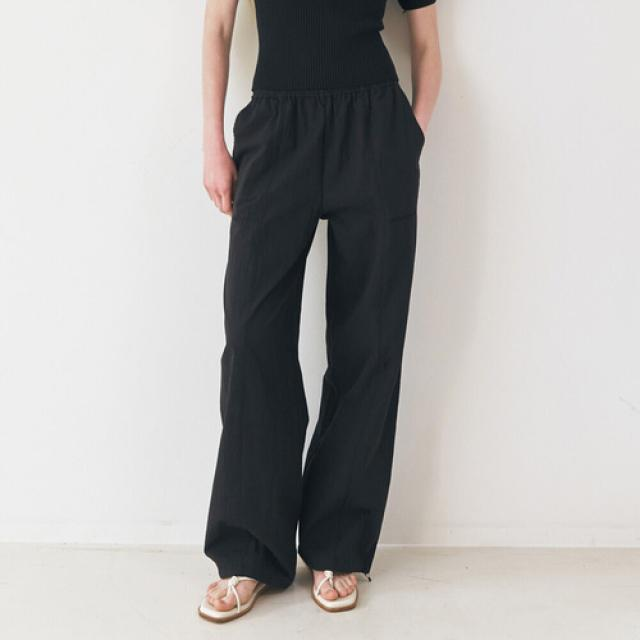Blouse_deep: (206, 78, 424, 588)
